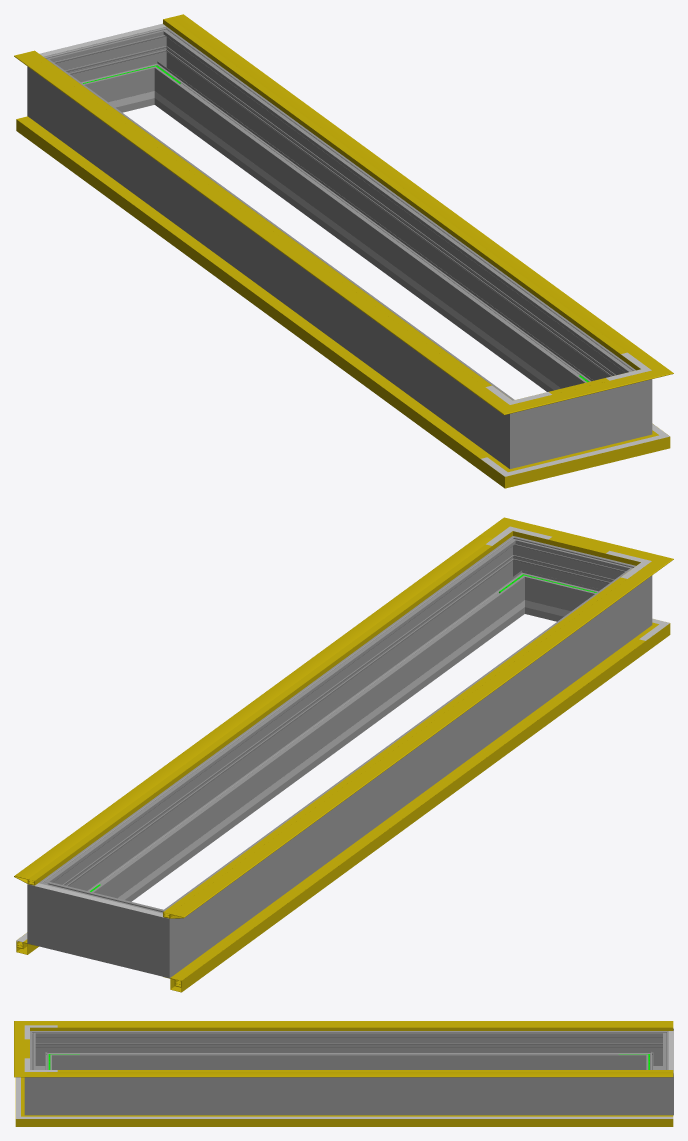
3 views of the same model, one above another, from view 1: azimuth 30°, elevation 25°; view 2: azimuth 150°, elevation 25°; view 3: azimuth 270°, elevation 25° (orthographic). The views are drawn at different scales.
Visible parts, largest first — view 1: 3DGeom-297, 3DGeom-268, 3DGeom-145, 3DGeom-6, 3DGeom-147, 3DGeom-270, 3DGeom-276, 3DGeom-25, 3DGeom-152, 3DGeom-154, 3DGeom-298, 3DGeom-237 (+7 smaller); view 2: 3DGeom-297, 3DGeom-268, 3DGeom-145, 3DGeom-6, 3DGeom-147, 3DGeom-278, 3DGeom-276, 3DGeom-298, 3DGeom-25, 3DGeom-154, 3DGeom-152, 3DGeom-237 (+6 smaller); view 3: 3DGeom-268, 3DGeom-297, 3DGeom-16, 3DGeom-147, 3DGeom-145, 3DGeom-18, 3DGeom-154, 3DGeom-290, 3DGeom-284, 3DGeom-152, 3DGeom-270, 3DGeom-278 (+7 smaller).
Part boxes in pixels (box(x1,y1,x2,y2)): 3DGeom-297: box(159, 41, 620, 391); 3DGeom-268: box(51, 71, 498, 450); 3DGeom-145: box(163, 14, 648, 364); 3DGeom-6: box(16, 116, 491, 469); 3DGeom-147: box(14, 52, 492, 396); 3DGeom-270: box(485, 388, 552, 468); 3DGeom-276: box(74, 35, 147, 112); 3DGeom-25: box(16, 117, 486, 458); 3DGeom-152: box(163, 17, 627, 353); 3DGeom-154: box(28, 50, 491, 386); 3DGeom-298: box(552, 389, 609, 458); 3DGeom-237: box(178, 108, 560, 390); 3DGeom-297: box(59, 551, 520, 901); 3DGeom-268: box(180, 580, 627, 959); 3DGeom-145: box(14, 535, 500, 885); 3DGeom-6: box(164, 638, 645, 992); 3DGeom-147: box(163, 573, 649, 918); 3DGeom-278: box(127, 897, 194, 978); 3DGeom-276: box(69, 889, 134, 967); 3DGeom-298: box(532, 544, 605, 621); 3DGeom-25: box(175, 639, 645, 981); 3DGeom-154: box(163, 577, 626, 914); 3DGeom-152: box(28, 544, 491, 881); 3DGeom-237: box(117, 617, 501, 899); 3DGeom-268: box(57, 1031, 640, 1069); 3DGeom-297: box(57, 1077, 640, 1115); 3DGeom-16: box(48, 1115, 673, 1126); 3DGeom-147: box(47, 1021, 673, 1030); 3DGeom-145: box(47, 1072, 673, 1077); 3DGeom-18: box(49, 1116, 673, 1118); 3DGeom-154: box(57, 1025, 673, 1027); 3DGeom-290: box(24, 1061, 57, 1115); 3DGeom-284: box(641, 1061, 673, 1115); 3DGeom-152: box(57, 1070, 673, 1071); 3DGeom-270: box(30, 1031, 57, 1069); 3DGeom-278: box(641, 1028, 673, 1069).
Bounding box in the file's own units: 0.6096 × 0.2596 × 3.05.
